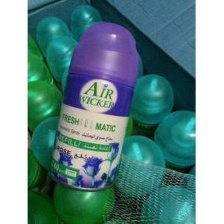aerosol_cans: (40, 17, 143, 192)
